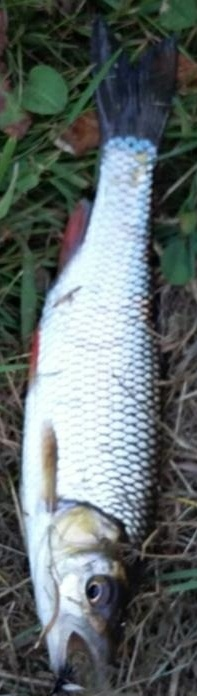Leuciscus cephalus: (20, 20, 177, 676)
